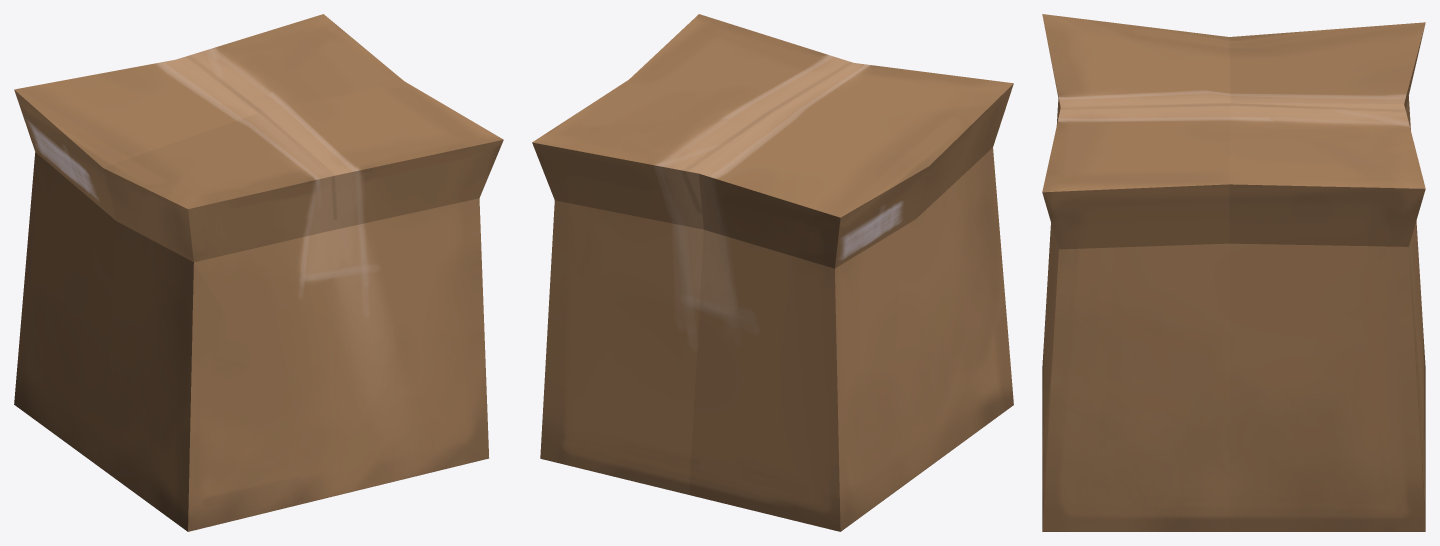
File: small_box2.fbx
3 renders of one model, left to right at view 1: azimuth 30°, elevation 25°; view 2: azimuth 150°, elevation 25°; view 3: azimuth 270°, elevation 25°, orthographic. The views are drawn at different scales.
Parts seen in each view (by area): view 1: cardboard_box_3; view 2: cardboard_box_3; view 3: cardboard_box_3.
Part boxes in pixels (x1,y1,x2,y2): cardboard_box_3: [14, 14, 503, 531]; cardboard_box_3: [532, 14, 1013, 531]; cardboard_box_3: [1042, 14, 1425, 531].
Bounding box in the file's own units: 80.48 × 78.58 × 76.74.
1 material, 1 textured.
